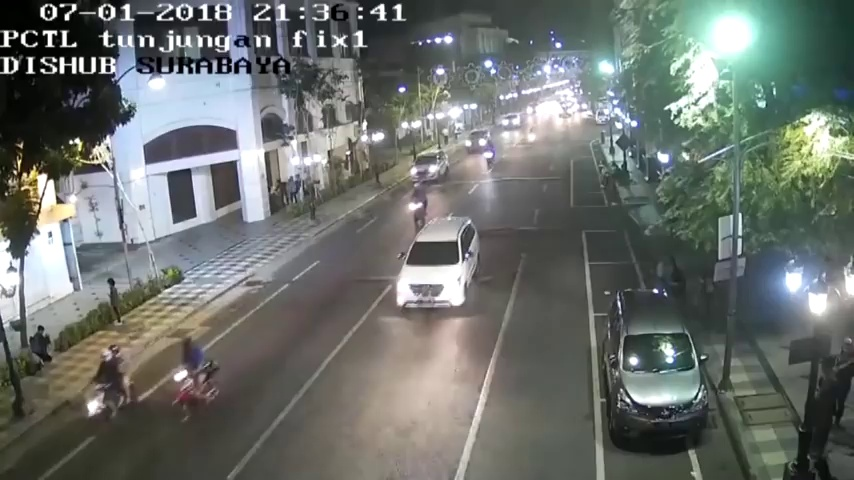car: (600, 286, 706, 445), (398, 215, 482, 318), (411, 150, 451, 182), (464, 130, 493, 156), (499, 111, 523, 132)
motorbike: (173, 332, 225, 417), (88, 348, 139, 429), (409, 184, 429, 229)
